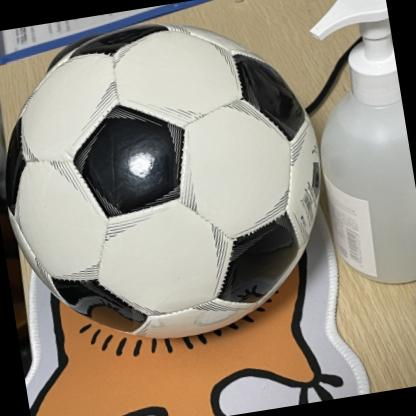ball: (0, 0, 345, 361)
